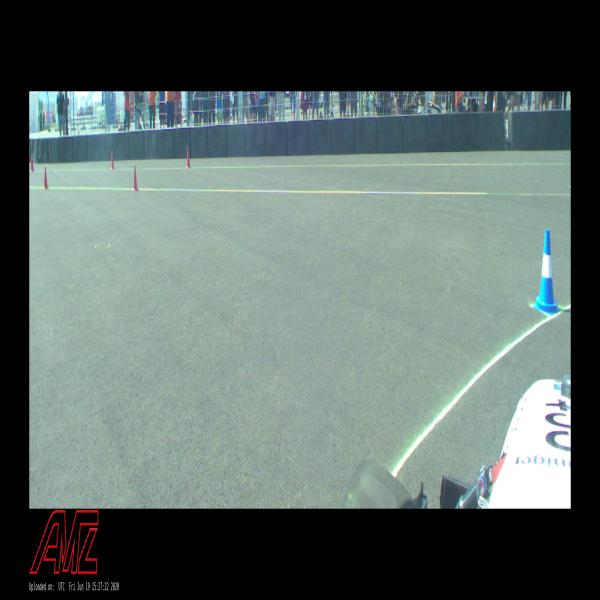blue_cone: (533, 230, 560, 315)
